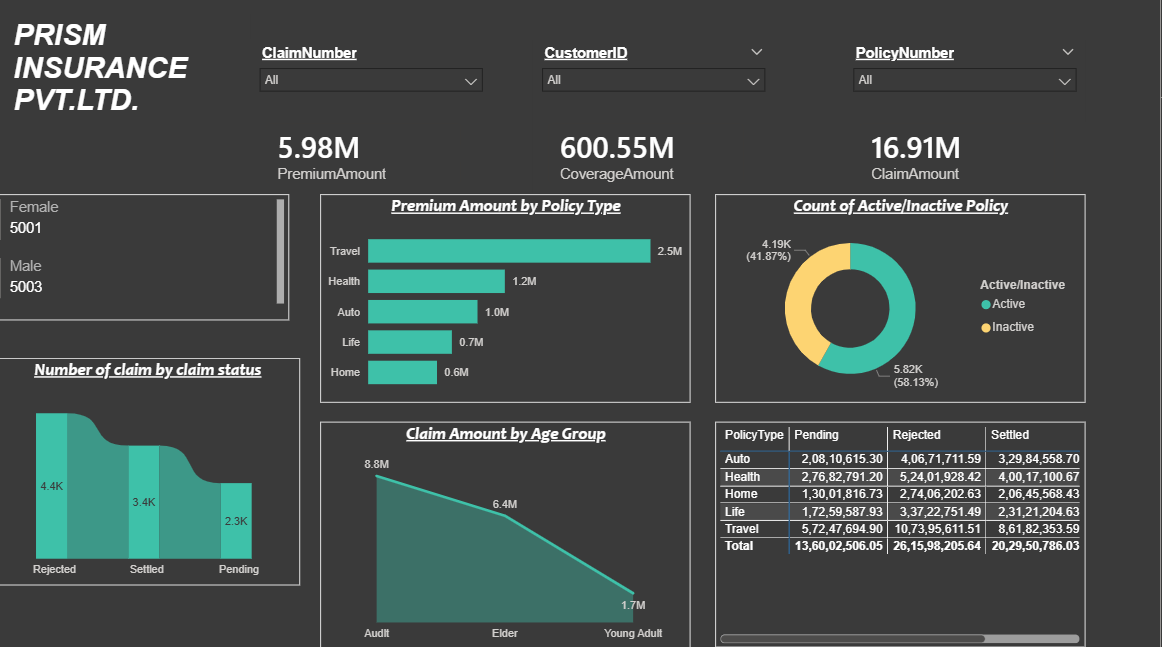

What the dashboard file says about the page in this screenshot:
{"tool":"powerbi","page":{"name":"Page 1","canvas":[1280,720],"ordinal":0},"visuals":[{"type":"slicer","fields":{"Values":["InsuranceData.PolicyNumber"]},"box":[933.1,52.1,264.8,89.2],"z":0},{"type":"slicer","fields":{"Values":["InsuranceData.ClaimNumber"]},"box":[281.3,52.1,264.8,89.2],"z":1000},{"type":"slicer","fields":{"Values":["InsuranceData.CustomerID"]},"box":[591.4,52.1,264.8,89.2],"z":2000},{"type":"textbox","box":[16.5,23.3,264.8,144.1],"z":3000},{"type":"cardVisual","fields":{"Data":["Sum(InsuranceData.PremiumAmount)"]},"box":[281.3,126.2,249.7,100.2],"z":4000},{"type":"cardVisual","fields":{"Data":["Sum(InsuranceData.CoverageAmount)"]},"box":[591.4,126.2,249.7,100.2],"z":5000},{"type":"cardVisual","fields":{"Data":["Sum(InsuranceData.ClaimAmount)"]},"box":[933.1,126.2,249.7,100.2],"z":6000},{"type":"multiRowCard","fields":{"Values":["InsuranceData.Gender","CountNonNull(InsuranceData.Gender)"]},"box":[0,220.9,323.8,138.6],"z":7000},{"type":"ribbonChart","title":"Number of claim by claim status","fields":{"Category":["InsuranceData.ClaimStatus"],"Y":["CountNonNull(InsuranceData.ClaimStatus)"]},"box":[0,400.7,336.2,249.7],"z":8000},{"type":"barChart","title":"Premium Amount by Policy Type","fields":{"Y":["Sum(InsuranceData.PremiumAmount)"],"Category":["InsuranceData.PolicyType"]},"box":[358.1,220.9,406.2,229.2],"z":9000},{"type":"lineChart","title":"Claim Amount by Age Group","fields":{"Category":["InsuranceData.Age Group"],"Y":["Sum(InsuranceData.ClaimAmount)"]},"box":[358.1,470.7,406.2,249.7],"z":10000},{"type":"donutChart","title":"Count of Active/Inactive Policy","fields":{"Y":["CountNonNull(InsuranceData.Active/Inactive)"],"Category":["InsuranceData.Active/Inactive"]},"box":[791.8,220.9,406.2,229.2],"z":11000},{"type":"pivotTable","fields":{"Values":["Sum(InsuranceData.CoverageAmount)"],"Rows":["InsuranceData.PolicyType"],"Columns":["InsuranceData.ClaimStatus"]},"box":[792,471,406,249],"z":12000}]}

Visuals, with their boxes in screenshot pixels (x1, y1, x2, y2), scaled from the page's 1280x720 canvas onto the 1162x647 screenshot:
slicer - InsuranceData.PolicyNumber: (847,47,1087,127)
slicer - InsuranceData.ClaimNumber: (255,47,496,127)
slicer - InsuranceData.CustomerID: (537,47,777,127)
textbox: (15,21,255,150)
cardVisual - Sum(InsuranceData.PremiumAmount): (255,113,482,203)
cardVisual - Sum(InsuranceData.CoverageAmount): (537,113,764,203)
cardVisual - Sum(InsuranceData.ClaimAmount): (847,113,1074,203)
multiRowCard - InsuranceData.Gender x CountNonNull(InsuranceData.Gender): (0,199,294,323)
"Number of claim by claim status" ribbonChart: (0,360,305,584)
"Premium Amount by Policy Type" barChart: (325,199,694,404)
"Claim Amount by Age Group" lineChart: (325,423,694,646)
"Count of Active/Inactive Policy" donutChart: (719,199,1088,404)
pivotTable - Sum(InsuranceData.CoverageAmount) x InsuranceData.PolicyType: (719,423,1088,646)
